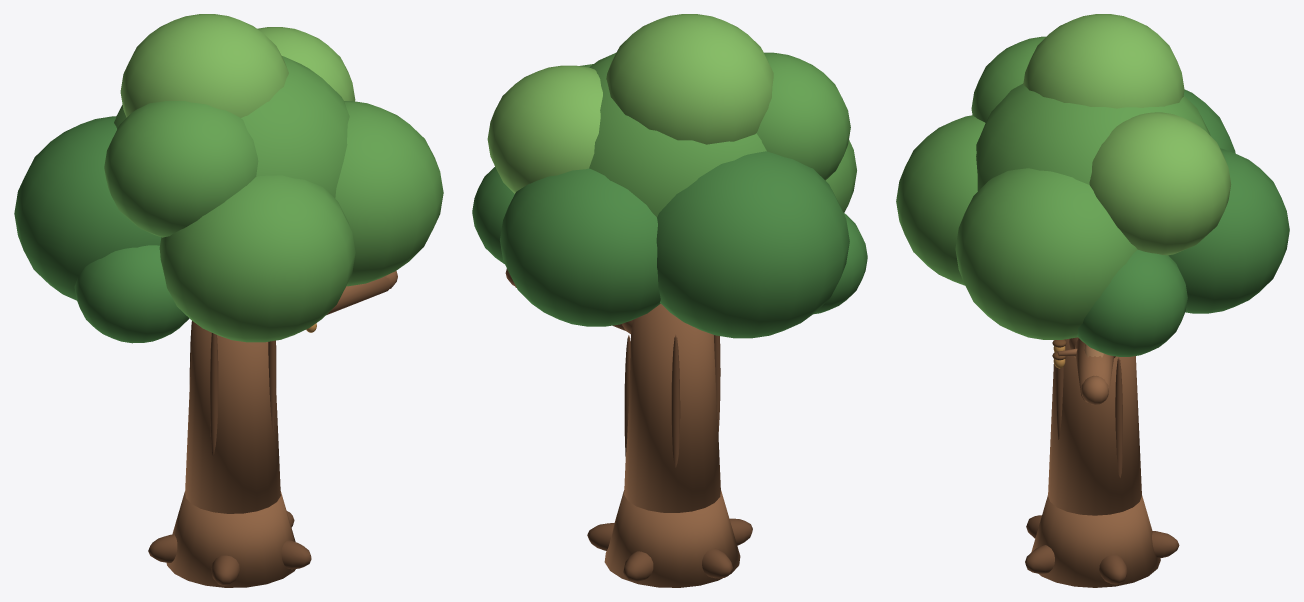
File: oak.glb
The picture shows the model from 3 angles, left to right: view 1: azimuth 30°, elevation 25°; view 2: azimuth 150°, elevation 25°; view 3: azimuth 270°, elevation 25°; orthographic projection. The views are drawn at different scales.
Visible parts, largest first — view 1: OAK · crown balloon 5, OAK · crown balloon 8, OAK · trunk, OAK · crown balloon 3, OAK · crown balloon 2, OAK · crown balloon 6, OAK · crown balloon 1, OAK · flared trunk base, OAK · crown balloon 10, OAK · crown balloon 7, OAK · roost branch, OAK · bark ridge 3 (+4 smaller); view 2: OAK · crown balloon 2, OAK · crown balloon 4, OAK · crown balloon 6, OAK · trunk, OAK · crown balloon 7, OAK · crown balloon 1, OAK · flared trunk base, OAK · crown balloon 8, OAK · crown balloon 9, OAK · crown balloon 10, OAK · crown balloon 5, OAK · bark ridge 2 (+4 smaller); view 3: OAK · crown balloon 3, OAK · crown balloon 7, OAK · crown balloon 6, OAK · trunk, OAK · crown balloon 4, OAK · crown balloon 1, OAK · crown balloon 5, OAK · crown balloon 9, OAK · flared trunk base, OAK · crown balloon 8, OAK · roost branch, OAK · crown balloon 2 (+5 smaller).
Part boxes in pixels (box(x1,y1,x2,y2)): OAK · crown balloon 5: box(159, 175, 355, 342); OAK · crown balloon 8: box(104, 101, 258, 237); OAK · trunk: box(185, 321, 280, 513); OAK · crown balloon 3: box(335, 101, 443, 286); OAK · crown balloon 2: box(14, 116, 161, 300); OAK · crown balloon 6: box(120, 14, 288, 117); OAK · crown balloon 1: box(114, 56, 349, 198); OAK · flared trunk base: box(166, 491, 295, 587); OAK · crown balloon 10: box(74, 245, 189, 343); OAK · crown balloon 7: box(257, 27, 355, 101); OAK · roost branch: box(327, 275, 389, 314); OAK · bark ridge 3: box(210, 333, 218, 455); OAK · crown balloon 2: box(656, 151, 849, 338); OAK · crown balloon 4: box(500, 168, 660, 326); OAK · crown balloon 6: box(606, 14, 773, 144); OAK · trunk: box(624, 303, 720, 512); OAK · crown balloon 7: box(487, 65, 602, 193); OAK · crown balloon 1: box(589, 52, 766, 217); OAK · flared trunk base: box(604, 490, 740, 587); OAK · crown balloon 8: box(756, 52, 850, 180); OAK · crown balloon 9: box(472, 167, 514, 263); OAK · crown balloon 10: box(813, 212, 867, 314); OAK · crown balloon 5: box(825, 140, 856, 212); OAK · bark ridge 2: box(671, 334, 680, 467); OAK · crown balloon 3: box(955, 168, 1137, 339); OAK · crown balloon 7: box(1089, 112, 1231, 255); OAK · crown balloon 6: box(1023, 14, 1184, 108); OAK · trunk: box(1048, 338, 1141, 515); OAK · crown balloon 4: box(1168, 148, 1289, 313); OAK · crown balloon 1: box(976, 83, 1210, 190); OAK · crown balloon 5: box(896, 115, 985, 285); OAK · crown balloon 9: box(1077, 250, 1187, 356); OAK · flared trunk base: box(1031, 495, 1160, 587); OAK · crown balloon 8: box(971, 36, 1045, 122); OAK · roost branch: box(1075, 338, 1114, 403); OAK · crown balloon 2: box(1184, 89, 1235, 153).
Size of the model in its own units: 4.76 by 6.88 by 4.66.
